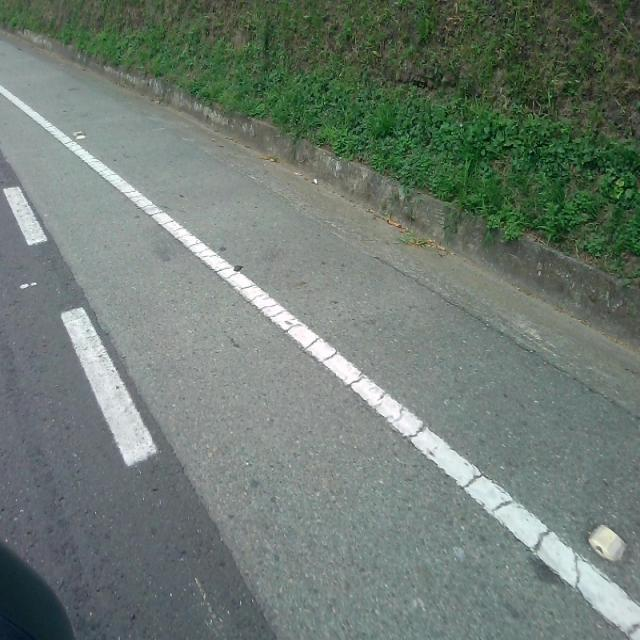DITCH: (3, 16, 638, 638), (1, 29, 638, 638)
